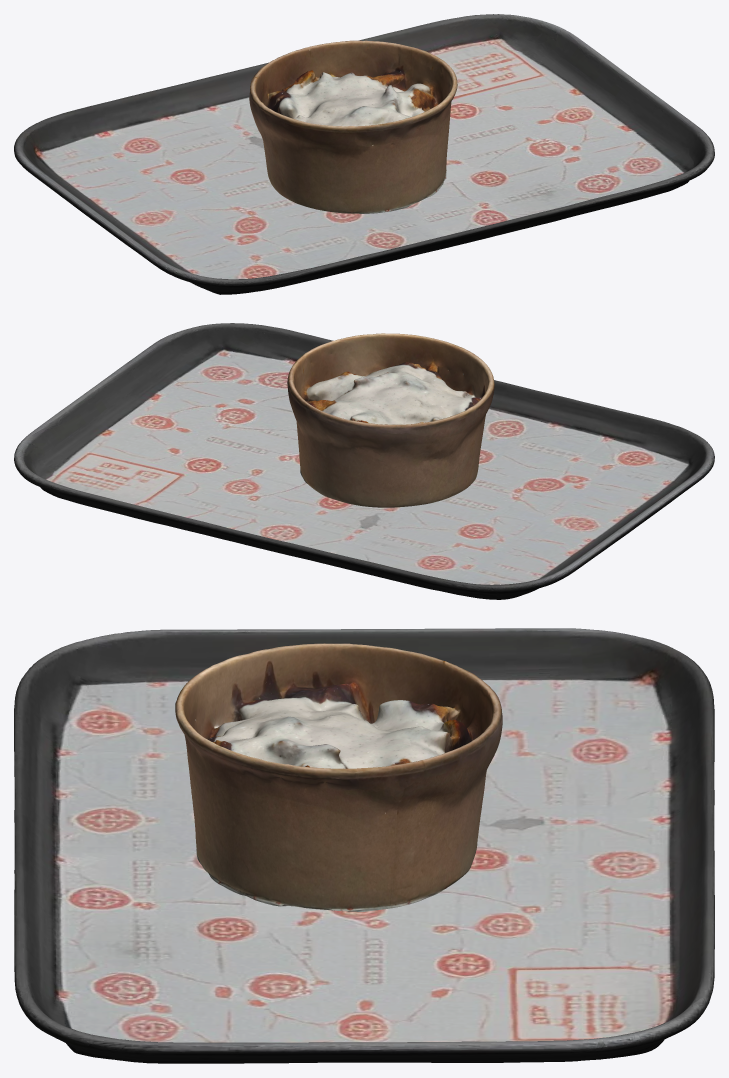
The model's file is tacos.bowle.glb.
3 renders of one model, top to bottom at view 1: azimuth 30°, elevation 25°; view 2: azimuth 150°, elevation 25°; view 3: azimuth 270°, elevation 25°, orthographic. The views are drawn at different scales.
Visible parts, largest first — view 1: /Root/Scenes/Scene/Object_37/Object_39/Object_40/Submesh_0, /Root/Scenes/Scene/Object_37/Object_38/Submesh_0; view 2: /Root/Scenes/Scene/Object_37/Object_39/Object_40/Submesh_0, /Root/Scenes/Scene/Object_37/Object_38/Submesh_0; view 3: /Root/Scenes/Scene/Object_37/Object_39/Object_40/Submesh_0, /Root/Scenes/Scene/Object_37/Object_38/Submesh_0.
Boxes of the visible parts, x1,y1,x2,y2 form: /Root/Scenes/Scene/Object_37/Object_39/Object_40/Submesh_0: (14,14,714,294); /Root/Scenes/Scene/Object_37/Object_38/Submesh_0: (249,40,457,213); /Root/Scenes/Scene/Object_37/Object_39/Object_40/Submesh_0: (14,323,714,599); /Root/Scenes/Scene/Object_37/Object_38/Submesh_0: (287,333,494,507); /Root/Scenes/Scene/Object_37/Object_39/Object_40/Submesh_0: (14,628,714,1063); /Root/Scenes/Scene/Object_37/Object_38/Submesh_0: (175,643,502,911).
Size of the model in its own units: 0.4654 by 0.083 by 0.3289.
2 materials, 2 textured.
